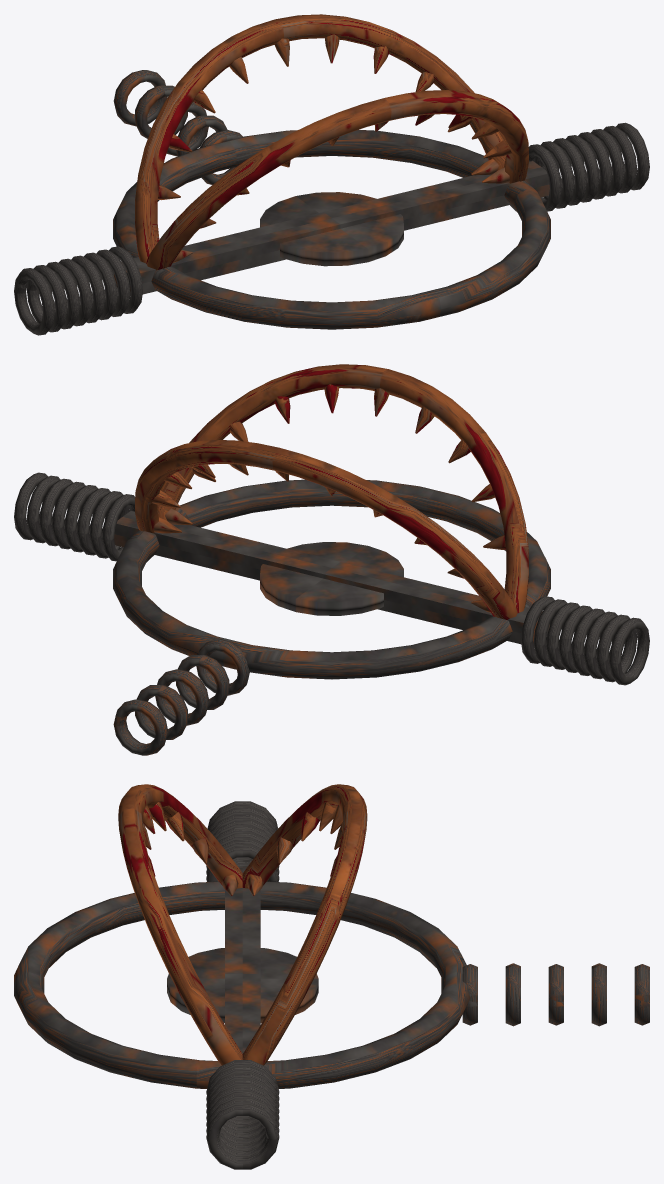
Rendered from トラバサミ_beartrap.glb.
3 renders of one model, top to bottom at view 1: azimuth 30°, elevation 25°; view 2: azimuth 150°, elevation 25°; view 3: azimuth 270°, elevation 25°, orthographic. The views are drawn at different scales.
Visible parts, largest first — view 1: beartrap; view 2: beartrap; view 3: beartrap.
Boxes of the visible parts, box(x1,y1,x2,y2) form: beartrap: box(14, 14, 649, 335); beartrap: box(14, 364, 649, 755); beartrap: box(14, 784, 649, 1169).
Bounding box in the file's own units: 0.2883 × 0.0938 × 0.2515.
Materials: 3 (3 with a texture image).
